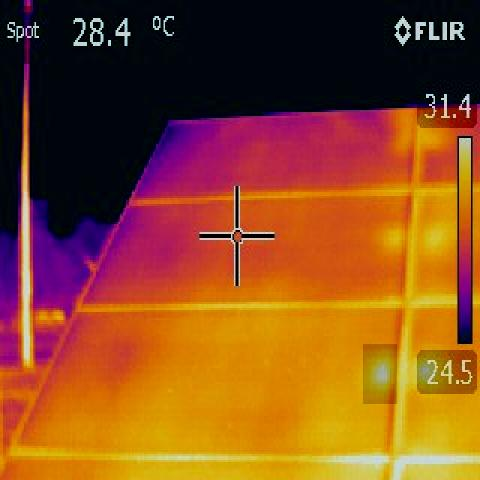fault: (363, 344, 397, 404)
